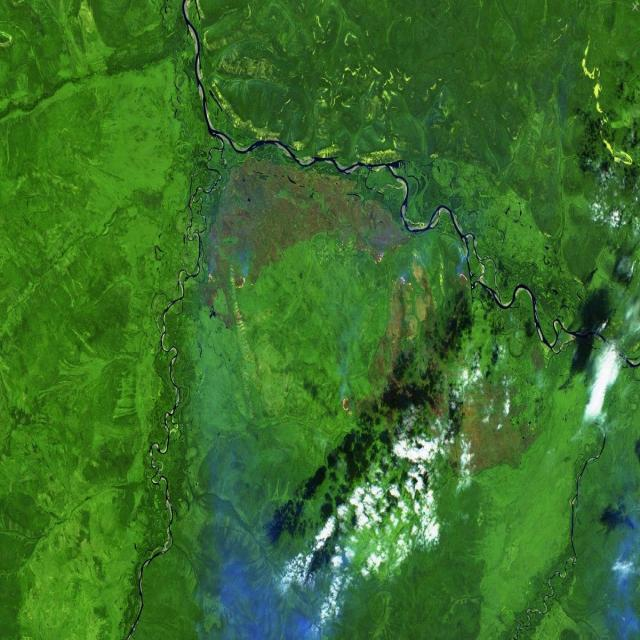fire: (332, 238, 404, 268), (228, 266, 254, 300), (338, 382, 358, 424), (451, 264, 474, 290), (397, 274, 414, 298)
